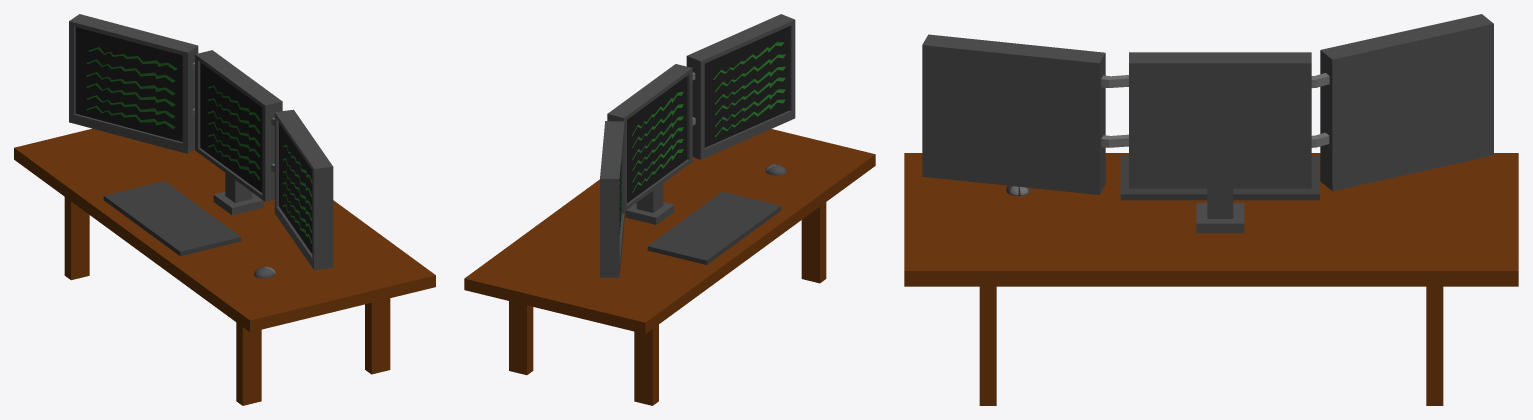
The model's file is Computer.fbx.
3 views of the same model, side by side, from view 1: azimuth 30°, elevation 25°; view 2: azimuth 150°, elevation 25°; view 3: azimuth 270°, elevation 25° (orthographic). The views are drawn at different scales.
Visible parts, largest first — view 1: Cube, Куб, Куб.001; view 2: Cube, Куб, Куб.001; view 3: Куб, Cube, Куб.001.
Boxes of the visible parts, x1,y1,x2,y2 form: Cube: (14, 128, 435, 405); Куб: (69, 14, 333, 270); Куб.001: (103, 181, 241, 256); Cube: (464, 129, 875, 405); Куб: (600, 14, 795, 277); Куб.001: (647, 191, 781, 264); Куб: (922, 14, 1493, 233); Cube: (904, 153, 1518, 405); Куб.001: (1120, 155, 1319, 200).
Bounding box in the file's own units: 257 × 316 × 566.
